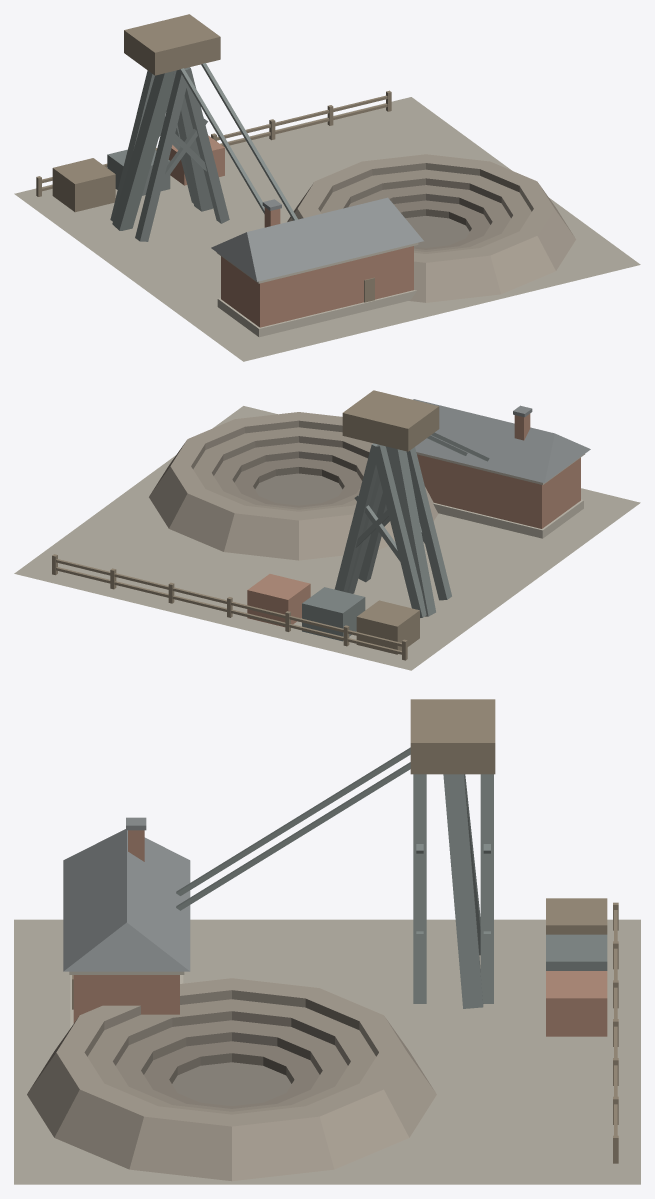
3 views of the same model, one above another, from view 1: azimuth 30°, elevation 25°; view 2: azimuth 150°, elevation 25°; view 3: azimuth 270°, elevation 25° (orthographic). The views are drawn at different scales.
Visible parts, largest first — view 1: Near, Far; view 2: Near, Mid; view 3: Near, Mid.
Part boxes in pixels (x1,y1,x2,y2): Near: (14, 14, 640, 361); Far: (416, 216, 464, 247); Near: (14, 390, 640, 670); Mid: (258, 474, 340, 505); Near: (14, 699, 640, 1184); Mid: (178, 1065, 285, 1105).
Size of the model in its own units: 4 by 1.84 by 4.
